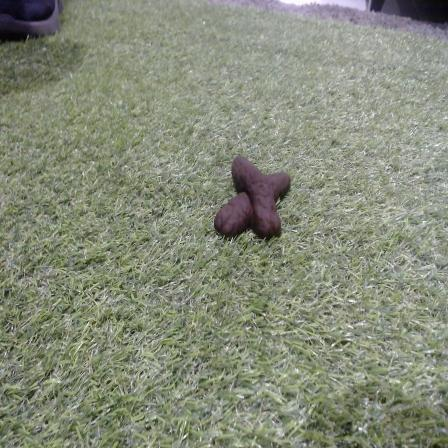dog-poop: (217, 148, 287, 240)
